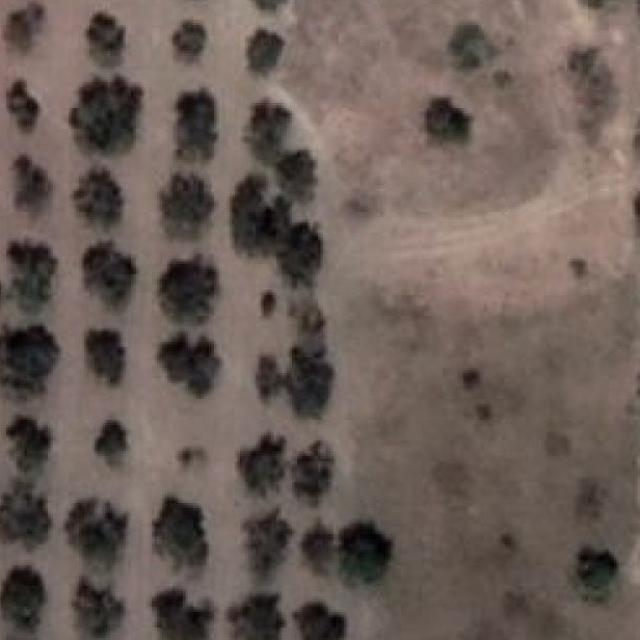Tree: (72, 77, 140, 155), (144, 498, 207, 576), (222, 176, 286, 250), (0, 321, 57, 398), (157, 254, 219, 322), (235, 508, 297, 576), (0, 230, 55, 306), (4, 563, 60, 634), (66, 498, 126, 562), (160, 331, 222, 392), (333, 518, 392, 581), (287, 339, 331, 418), (155, 170, 211, 232), (170, 87, 220, 155), (235, 433, 286, 499), (243, 103, 297, 165), (79, 241, 133, 302), (152, 583, 204, 640), (74, 575, 122, 636), (448, 18, 498, 76), (279, 217, 324, 279), (292, 440, 336, 503), (219, 596, 282, 640), (72, 173, 124, 226), (0, 484, 45, 545), (79, 12, 129, 66), (6, 158, 53, 215), (9, 417, 53, 477), (235, 25, 291, 70), (417, 92, 462, 148), (82, 326, 127, 380), (297, 596, 352, 640), (578, 544, 621, 600), (92, 418, 131, 474), (164, 12, 210, 59), (4, 4, 46, 55), (276, 149, 318, 197), (3, 82, 39, 129), (252, 355, 288, 398), (171, 436, 210, 471), (300, 522, 332, 564), (250, 0, 297, 9), (572, 0, 630, 7)
